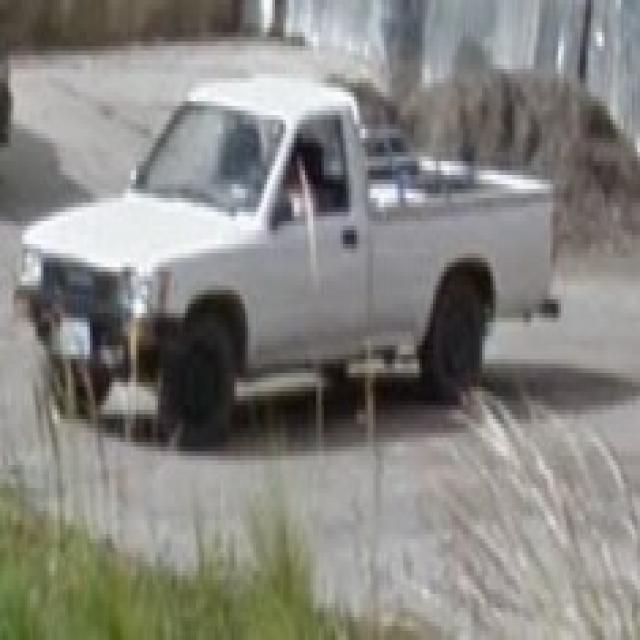cars: (11, 87, 560, 447)
